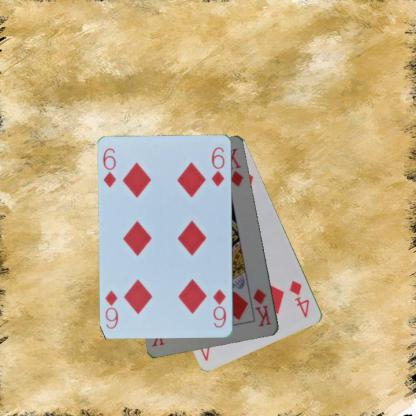4d: (287, 277, 312, 319)
6d: (100, 146, 118, 189), (210, 287, 228, 329)
Kd: (250, 286, 273, 328)
